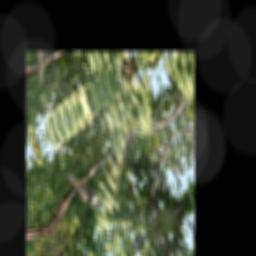Cuckoo: (62, 154, 101, 223)
